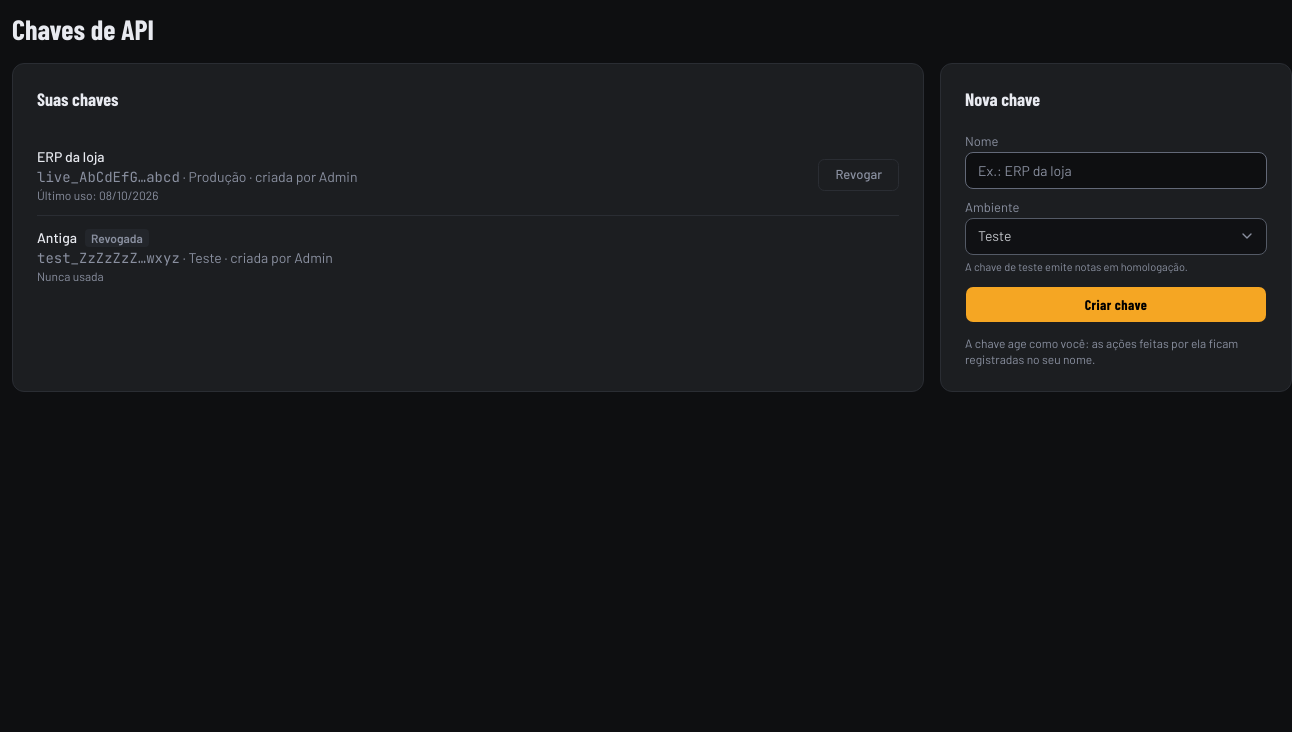
Test case: chaves de API › criar mostra a chave inteira uma vez, com aviso e botão de copiar; ao fechar ela some
Type "Integração nova" into the field labelled "Nome" at (1116, 170), box x1=965 y1=152 x2=1267 y2=188
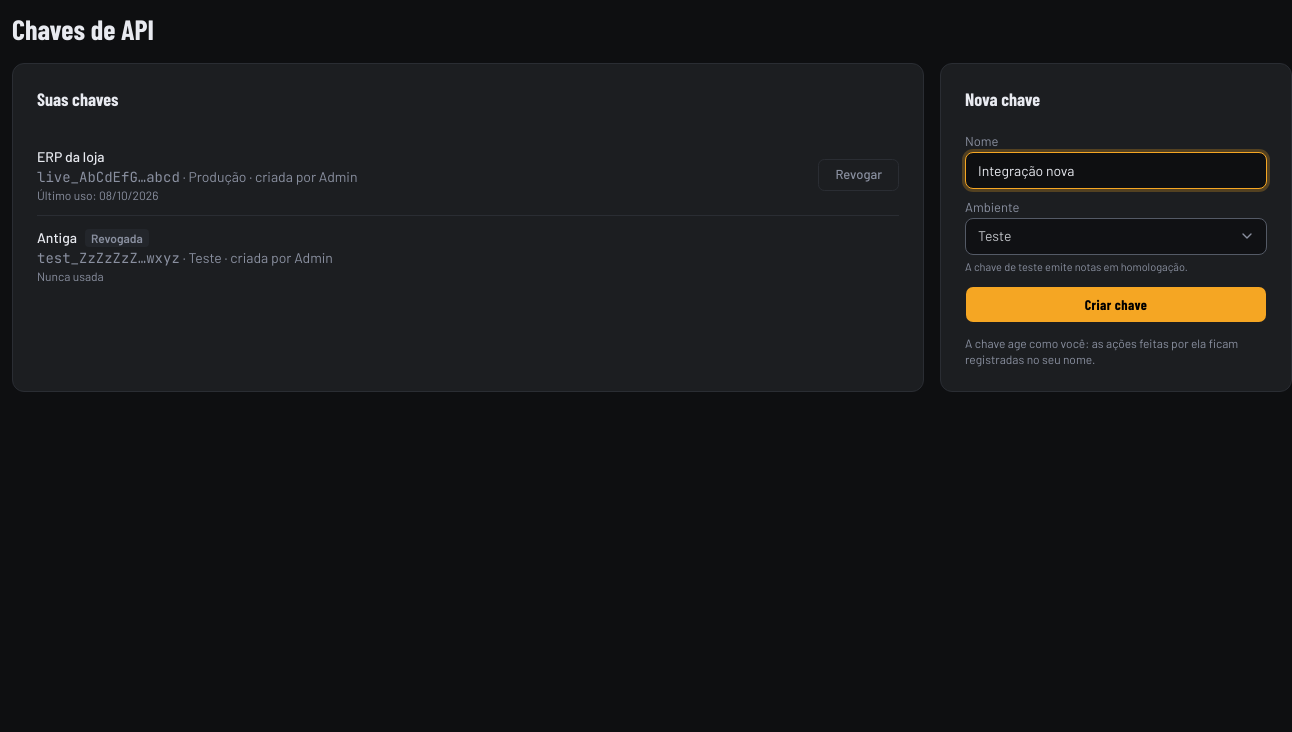
Select "Teste" in the dropdown labelled "Ambiente" at (1116, 236), box x1=965 y1=218 x2=1267 y2=254
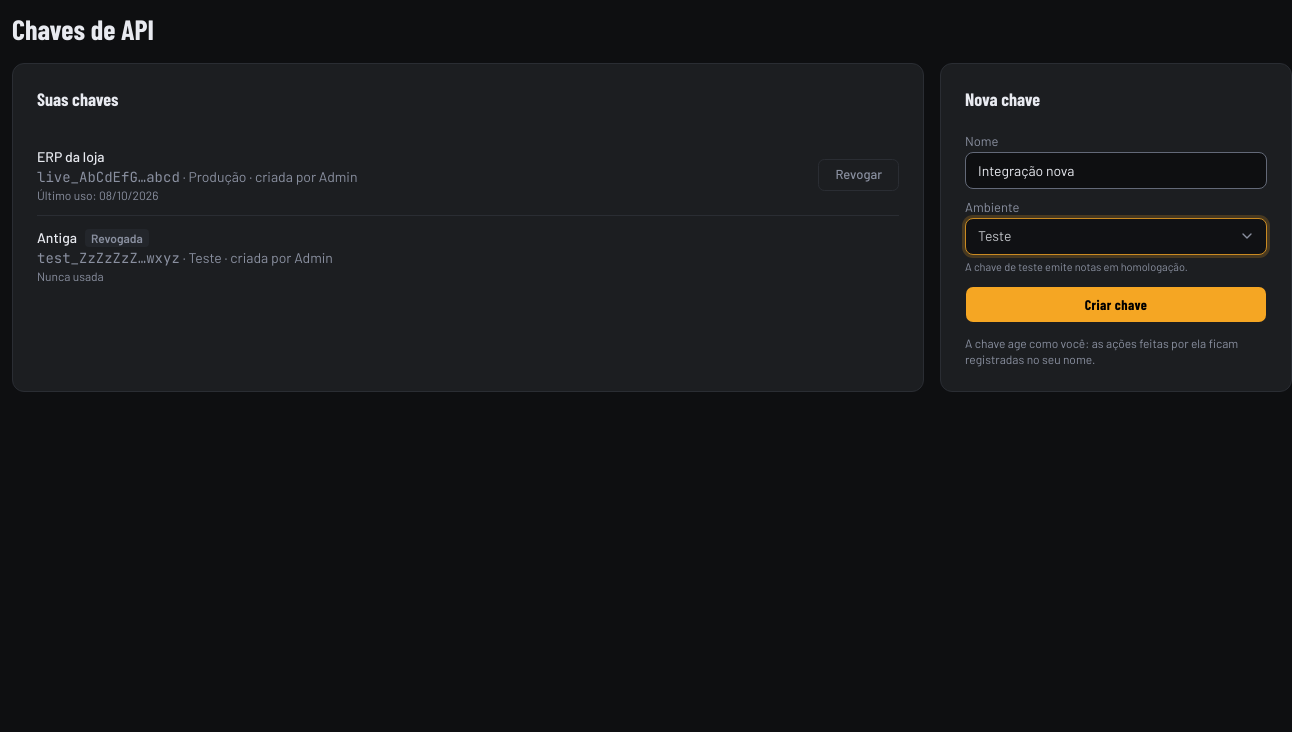
Click the button "Criar chave" at (1116, 305), box x1=965 y1=286 x2=1267 y2=323
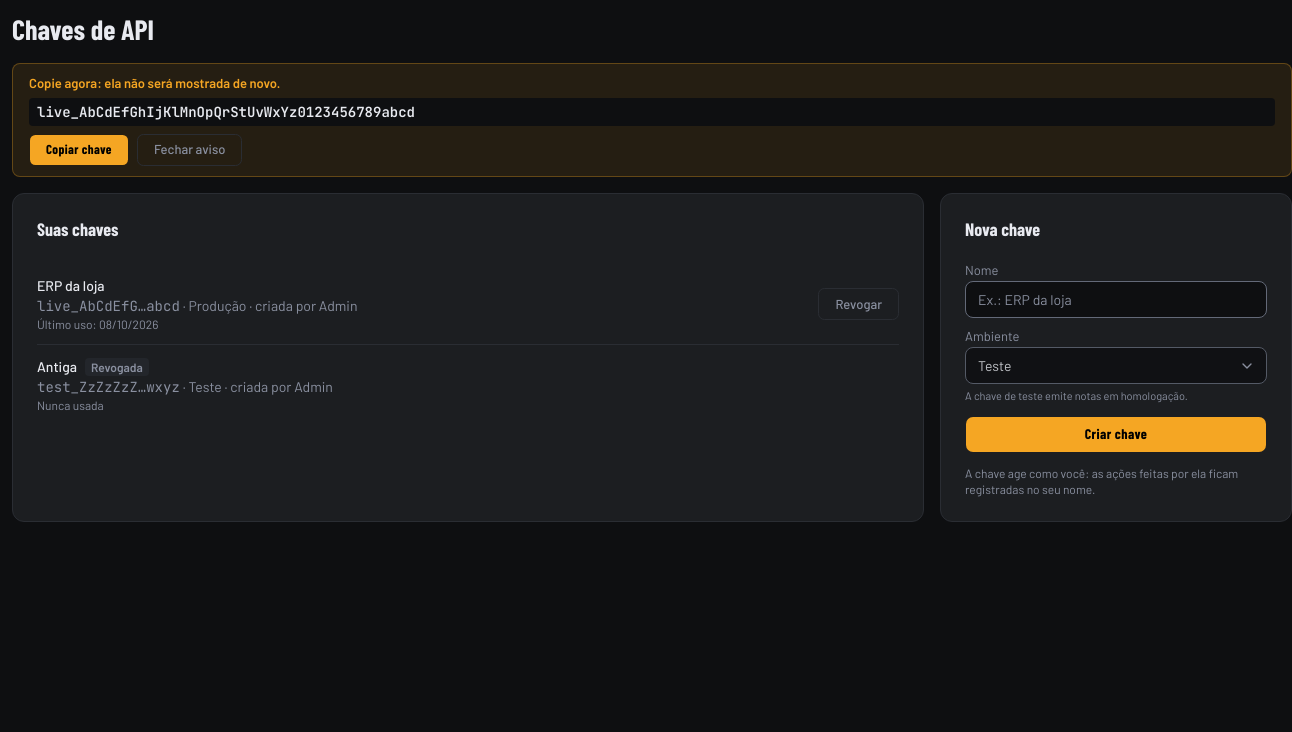
expect the text "live_AbCdEfGhIjKlMnOpQrStUvWxYz0123456789abcd" is shown: met, box x1=29 y1=98 x2=1275 y2=126
expect the text "Copie agora: ela não será mostrada de novo." is shown: met, box x1=29 y1=75 x2=280 y2=91
Click the button "Copiar chave" at (79, 150), box x1=29 y1=134 x2=129 y2=166
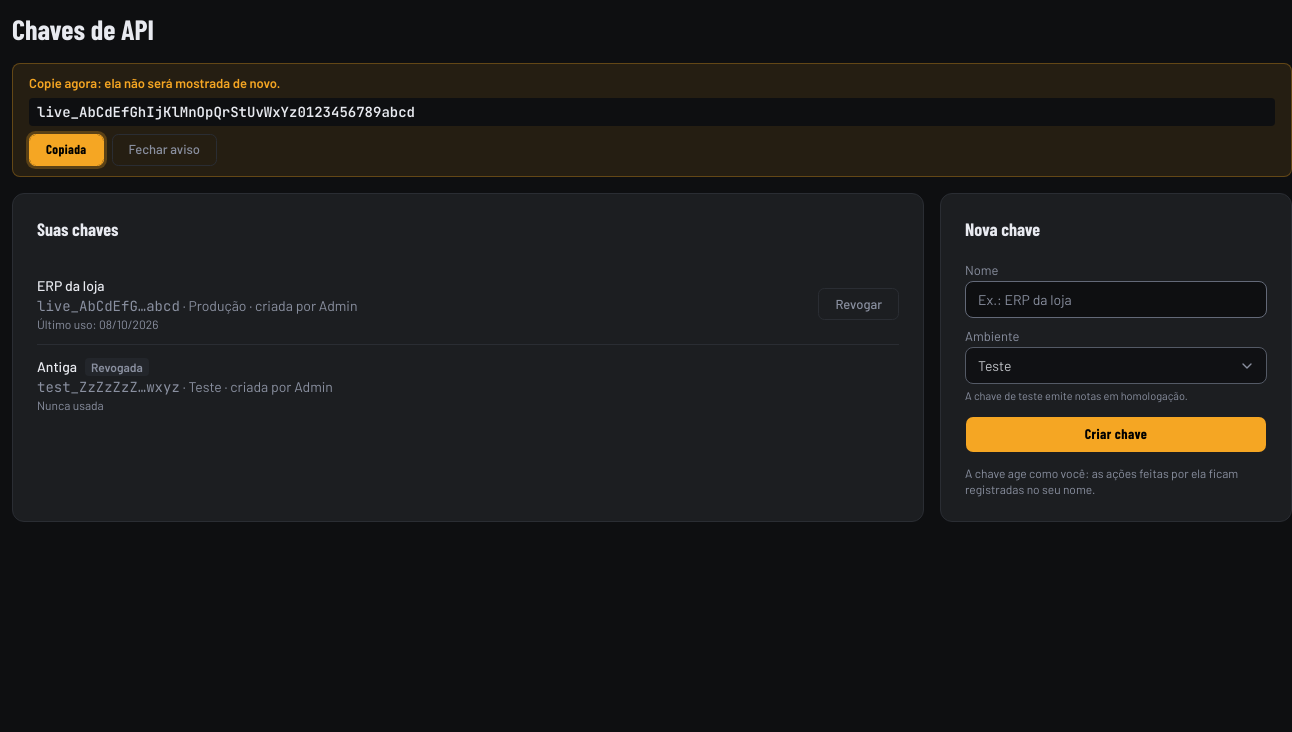
Click the button "Fechar aviso" at (164, 150), box x1=112 y1=134 x2=217 y2=166
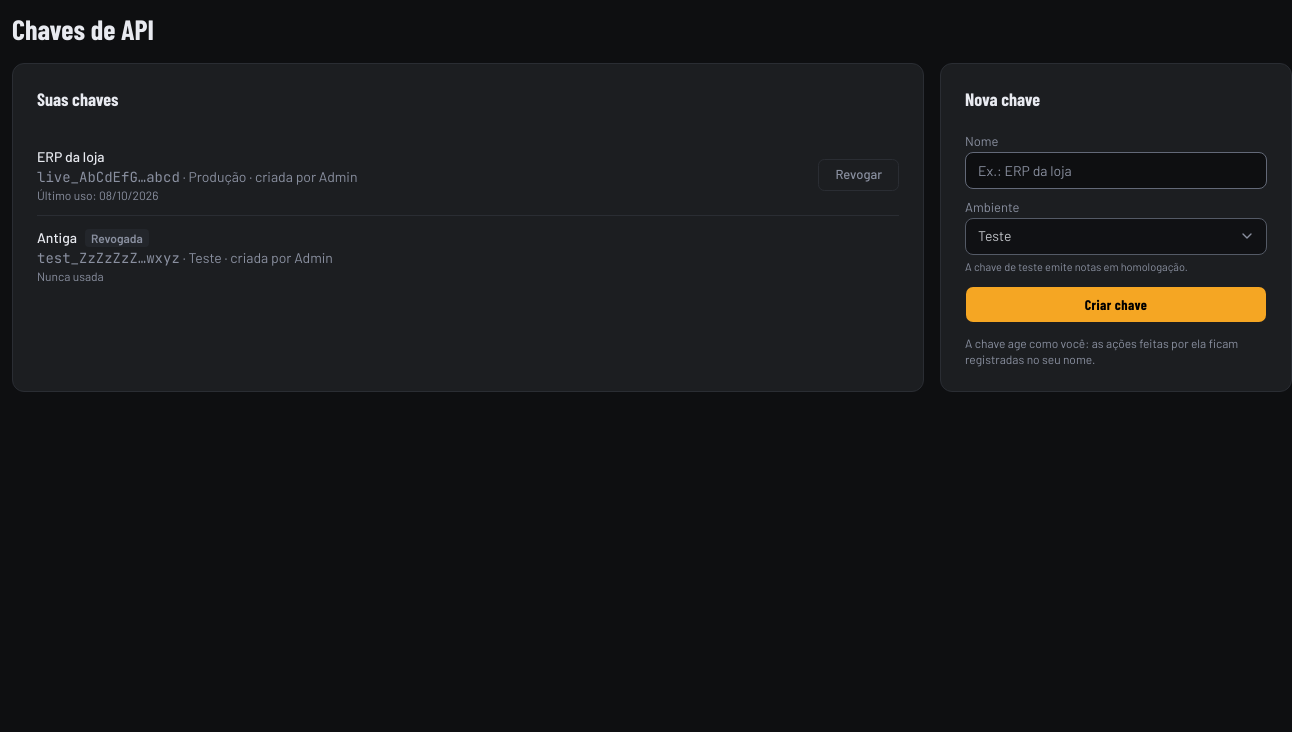
expect the text "live_AbCdEfGhIjKlMnOpQrStUvWxYz0123456789abcd" is gone: met
